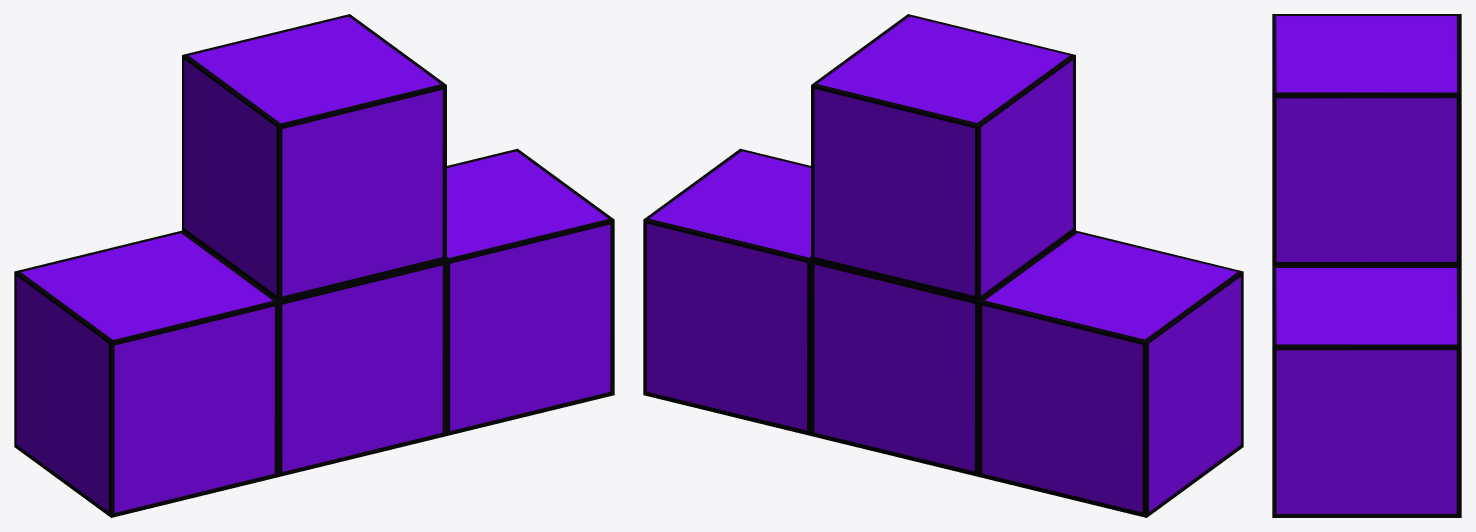
The model's file is TheCAMesh.obj.
The picture shows the model from 3 angles, left to right: view 1: azimuth 30°, elevation 25°; view 2: azimuth 150°, elevation 25°; view 3: azimuth 270°, elevation 25°; orthographic projection. The views are drawn at different scales.
Parts seen in each view (by area): view 1: Cube.001; view 2: Cube.001; view 3: Cube.001.
Part boxes in pixels (bbox=[...]): Cube.001: bbox=[14, 14, 614, 517]; Cube.001: bbox=[643, 14, 1243, 517]; Cube.001: bbox=[1272, 14, 1461, 517].
Size of the model in its own units: 6 by 4 by 2.
